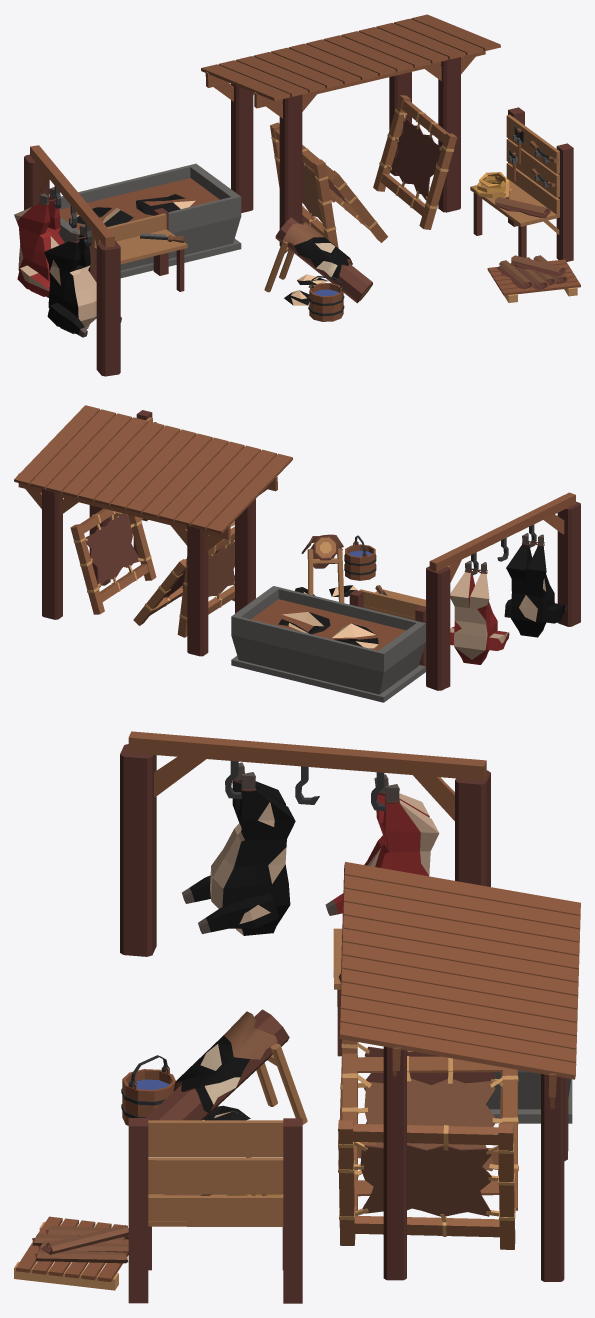
Rendered from tanery_3.fbx.
The picture shows the model from 3 angles, top to bottom: view 1: azimuth 30°, elevation 25°; view 2: azimuth 150°, elevation 25°; view 3: azimuth 270°, elevation 25°; orthographic projection. The views are drawn at different scales.
Parts seen in each view (by area): view 1: roof_shelter.001, pillars_shelter.002, Plane, bench.001, pillars_for_cow_carcass.001, leather_on_frame.006, cow_carcass.001, bench.002, cow_carcass-meat, pallet, leather_on_frame.004, cow_leather.002 (+5 smaller); view 2: roof_shelter.001, Plane, pillars_for_cow_carcass.001, pillars_shelter.002, leather_on_frame.006, cow_carcass.001, cow_carcass-meat, leather_on_frame.004, bench.002, leather_on_frame.005, bucket, stand.002 (+2 smaller); view 3: roof_shelter.001, bench.001, pillars_for_cow_carcass.001, leather_on_frame.006, cow_carcass.001, pillars_shelter.002, leather_on_frame.005, pallet, cow_carcass-meat, cow_leather.002, Deck.002, leather_on_frame.004 (+4 smaller).
Boxes of the visible parts, x1,y1,x2,y2 form: roof_shelter.001: [201, 14, 500, 108]; pillars_shelter.002: [214, 52, 478, 246]; Plane: [59, 163, 241, 278]; bench.001: [470, 107, 573, 261]; pillars_for_cow_carcass.001: [24, 145, 120, 376]; leather_on_frame.006: [373, 95, 457, 229]; cow_carcass.001: [44, 224, 121, 337]; bench.002: [89, 208, 187, 291]; cow_carcass-meat: [14, 187, 64, 297]; pallet: [487, 255, 580, 302]; leather_on_frame.004: [270, 122, 338, 248]; cow_leather.002: [283, 221, 352, 305]; roof_shelter.001: [14, 405, 292, 539]; Plane: [231, 586, 425, 702]; pillars_for_cow_carcass.001: [426, 492, 580, 690]; pillars_shelter.002: [25, 488, 266, 656]; leather_on_frame.006: [70, 508, 156, 614]; cow_carcass.001: [504, 533, 566, 637]; cow_carcass-meat: [450, 560, 509, 664]; leather_on_frame.004: [177, 526, 234, 637]; bench.002: [349, 585, 425, 666]; leather_on_frame.005: [133, 539, 234, 625]; bucket: [344, 541, 376, 580]; stand.002: [307, 548, 344, 602]; roof_shelter.001: [339, 862, 580, 1097]; bench.001: [128, 1118, 302, 1303]; pillars_for_cow_carcass.001: [120, 731, 490, 956]; leather_on_frame.006: [338, 1120, 515, 1249]; cow_carcass.001: [182, 762, 295, 935]; pillars_shelter.002: [383, 1046, 568, 1281]; leather_on_frame.005: [342, 1053, 518, 1210]; pallet: [14, 1216, 128, 1290]; cow_carcass-meat: [325, 774, 439, 915]; cow_leather.002: [173, 1011, 277, 1120]; Deck.002: [146, 1009, 289, 1120]; leather_on_frame.004: [338, 1039, 502, 1175].
Size of the model in its own units: 446 by 150 by 287.
